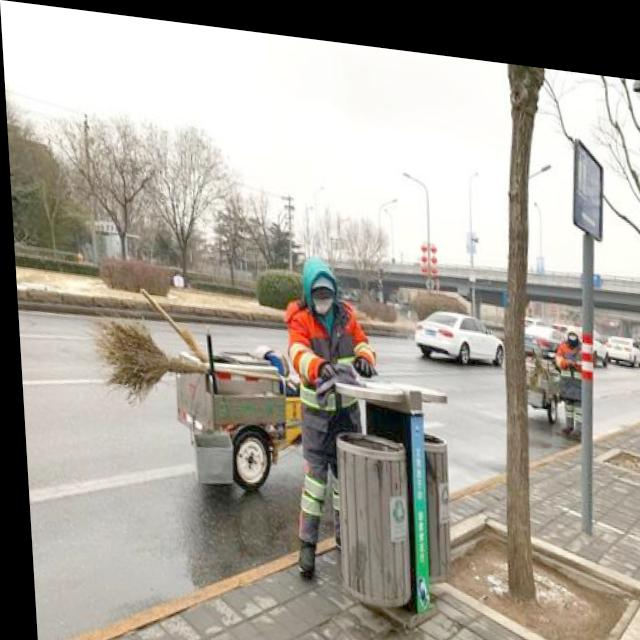garbage_bin: (325, 363, 453, 626)
